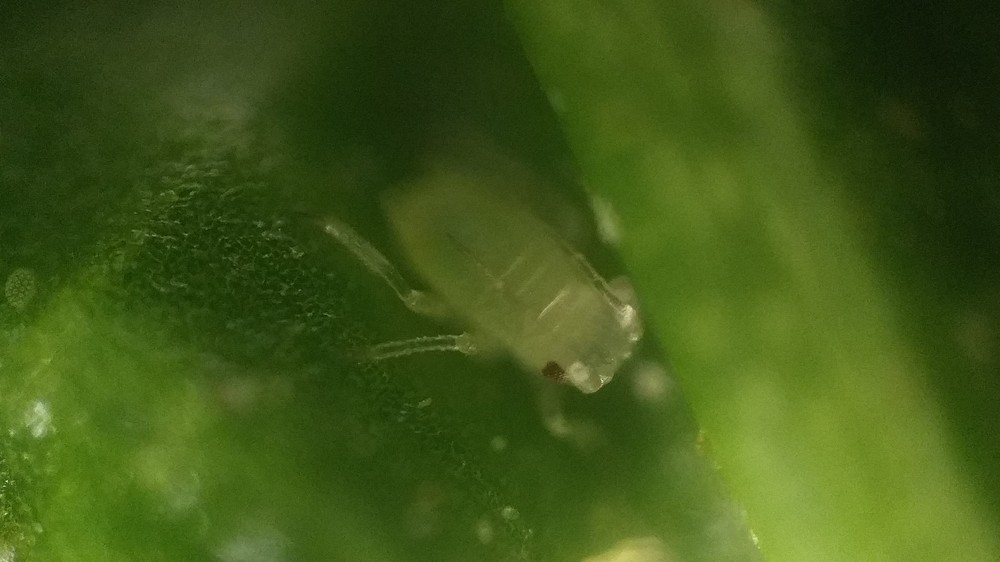Pulgon: (323, 98, 701, 447)
